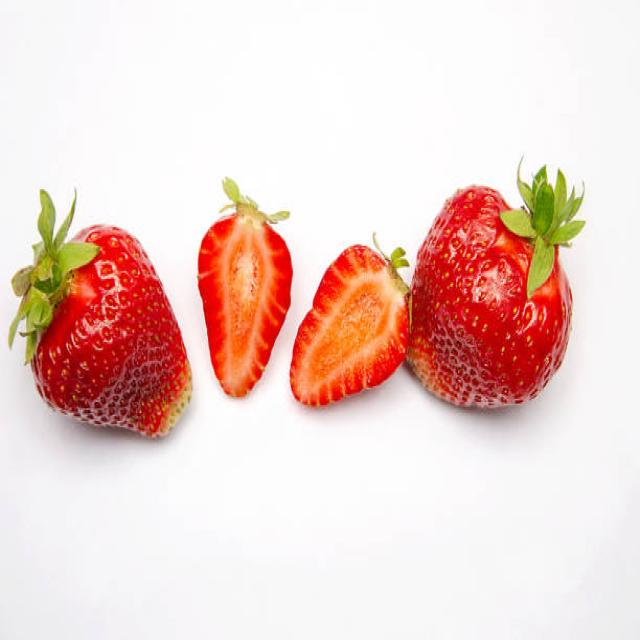Healthy Fruit: (403, 182, 575, 409), (28, 226, 196, 439)
